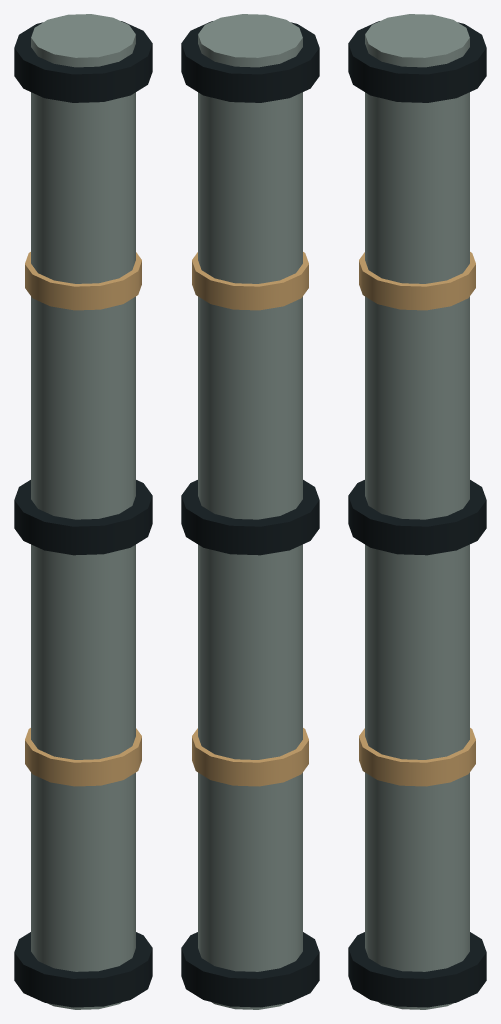
File: pipe-stand.glb
3 views of the same model, side by side, from view 1: azimuth 30°, elevation 25°; view 2: azimuth 150°, elevation 25°; view 3: azimuth 330°, elevation 25° (orthographic).
Visible parts, largest first — view 1: pipe-stand; view 2: pipe-stand; view 3: pipe-stand.
Part boxes in pixels (left/top/right/bottom): pipe-stand: left=14, top=14, right=152, bottom=1009; pipe-stand: left=181, top=14, right=319, bottom=1009; pipe-stand: left=348, top=14, right=486, bottom=1009.
Bounding box in the file's own units: 0.528 × 4 × 0.5148.
